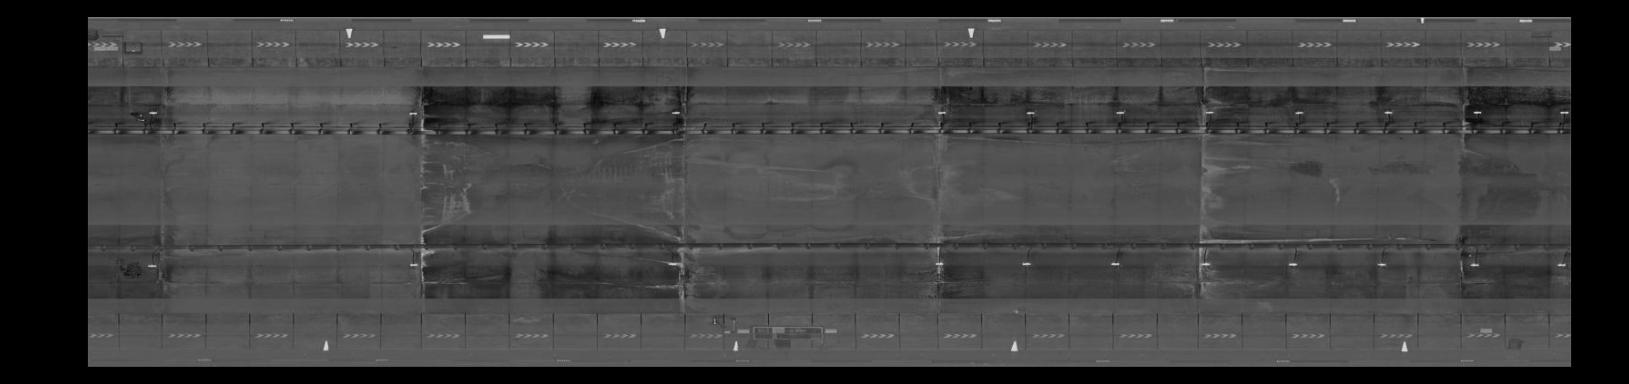light: (1023, 105, 1040, 118), (1376, 107, 1396, 117), (1371, 259, 1389, 271), (1017, 258, 1035, 270), (1462, 260, 1483, 270), (1199, 108, 1218, 118), (402, 260, 422, 270), (929, 259, 951, 268), (659, 259, 680, 268), (1288, 108, 1307, 117), (1468, 108, 1485, 118), (405, 109, 422, 119), (1111, 108, 1128, 117), (932, 108, 950, 117), (1195, 260, 1214, 269), (145, 107, 161, 117), (143, 262, 159, 272), (667, 107, 680, 118), (1552, 259, 1567, 270), (1107, 259, 1124, 268), (1557, 107, 1570, 117), (1284, 260, 1301, 268)
